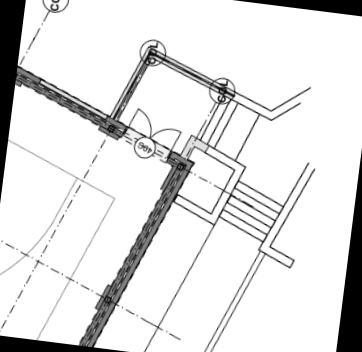double door: (123, 104, 188, 155)
window: (32, 74, 114, 122)
